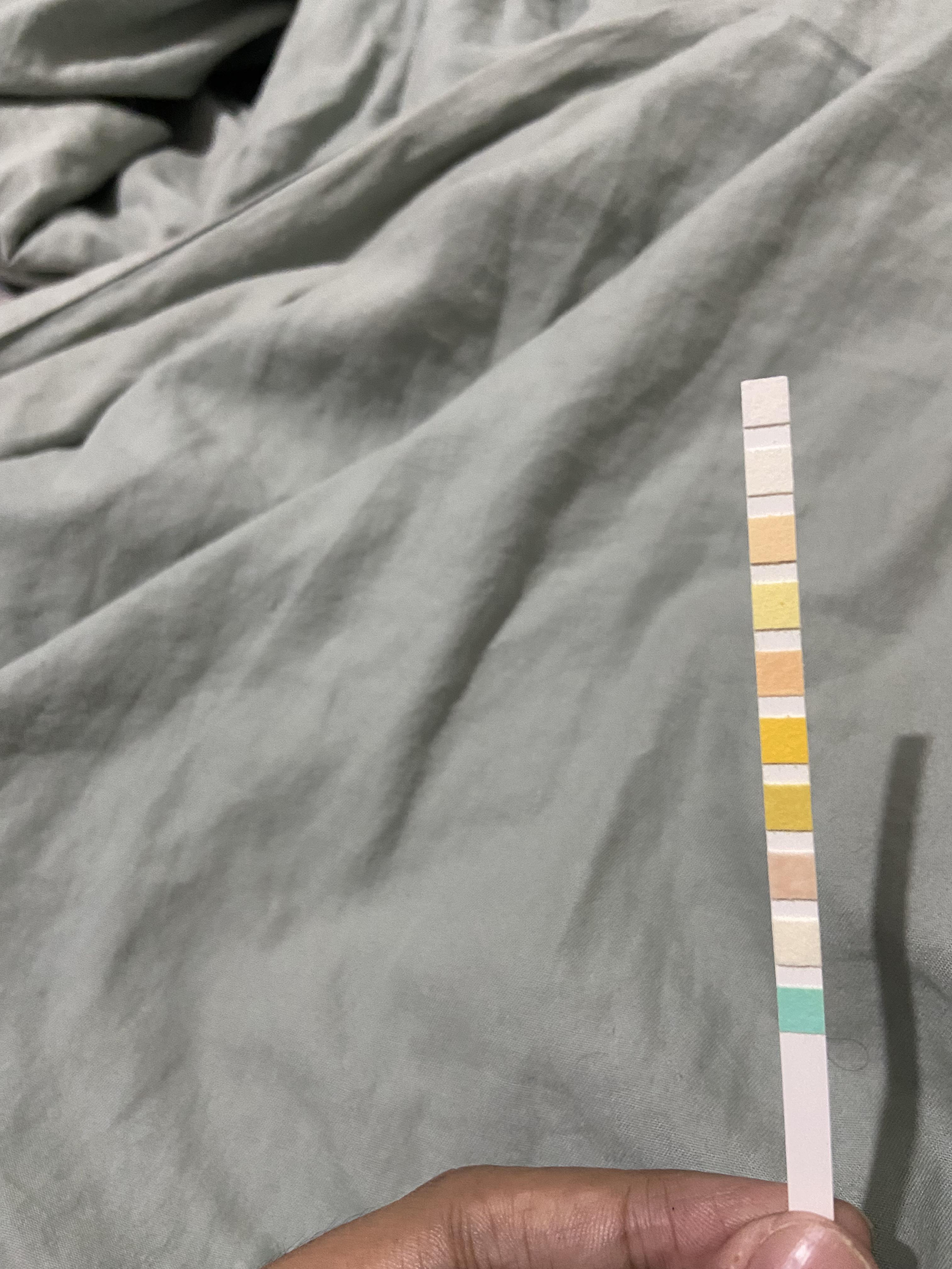Bilirubin: (776, 920, 820, 965)
Blood: (762, 720, 806, 761)
Glucose: (780, 989, 824, 1031)
Ketone: (771, 852, 815, 896)
Leukocytes: (744, 381, 788, 425)
Nitrite: (748, 451, 791, 493)
Protein: (755, 584, 798, 627)
SpGravity: (767, 786, 810, 829)
Urobilinogen: (750, 519, 794, 559)
pH: (759, 653, 802, 695)
strip: (739, 375, 834, 1207)
